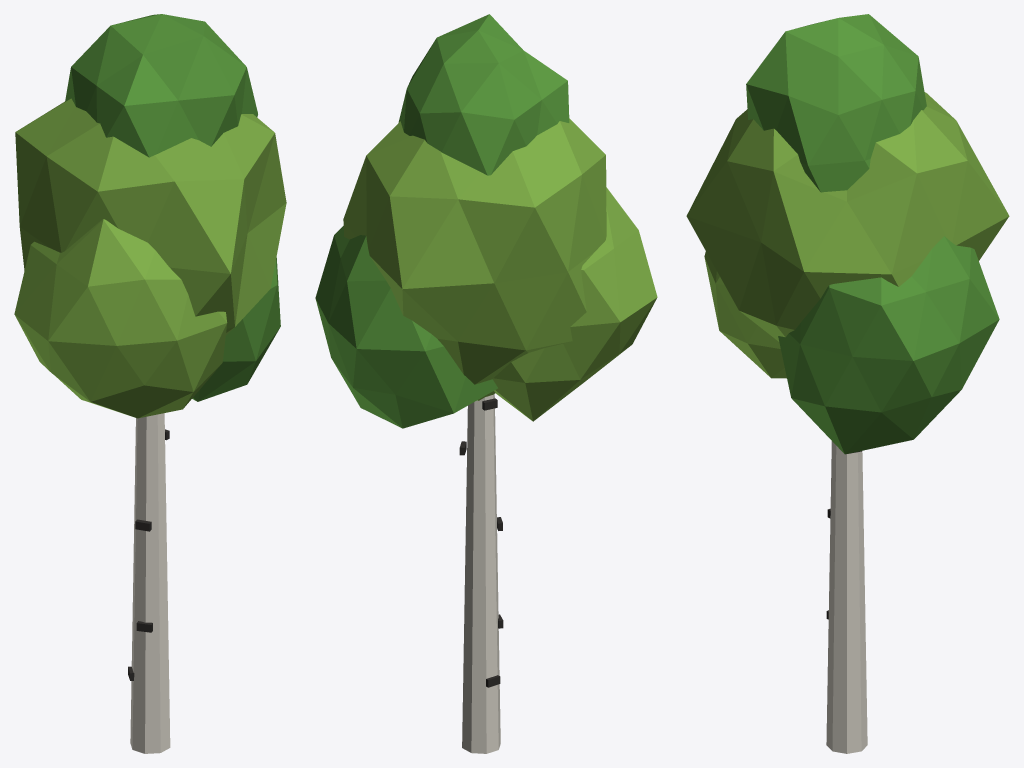
Rendered from Tree_Birch.fbx.
3 views of the same model, side by side, from view 1: azimuth 30°, elevation 25°; view 2: azimuth 150°, elevation 25°; view 3: azimuth 270°, elevation 25° (orthographic). The views are drawn at different scales.
Visible parts, largest first — view 1: Tree_Birch; view 2: Tree_Birch; view 3: Tree_Birch.
Part boxes in pixels (x1,y1,x2,y2): Tree_Birch: (14, 14, 286, 753); Tree_Birch: (315, 14, 657, 753); Tree_Birch: (686, 14, 1009, 753).
Bounding box in the file's own units: 1.88 × 4.7 × 1.88.
